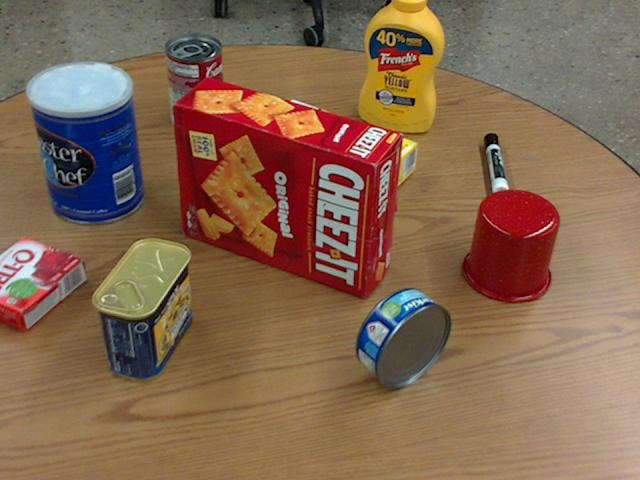cracker_box: (173, 77, 401, 298)
gelatin_box: (0, 236, 83, 328)
large_marker: (485, 132, 510, 198)
master_chef_can: (27, 62, 143, 224)
mug: (462, 188, 559, 301)
mustard_bottle: (360, 0, 445, 130)
potted_meat_can: (90, 236, 189, 379)
sugar_box: (252, 99, 418, 203)
tomato_soup_can: (165, 33, 224, 132)
tuna_fish_can: (356, 287, 450, 387)
